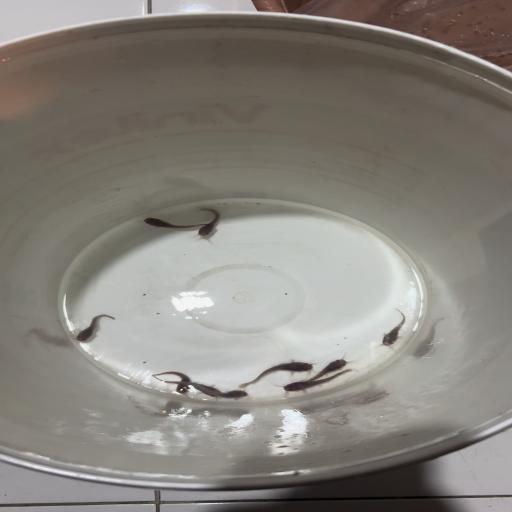lele: (236, 358, 314, 388), (277, 367, 354, 394), (152, 372, 223, 399), (376, 307, 410, 349), (73, 313, 116, 344), (304, 355, 350, 380), (189, 384, 249, 402), (152, 368, 193, 394), (192, 207, 223, 238), (140, 215, 207, 229)
